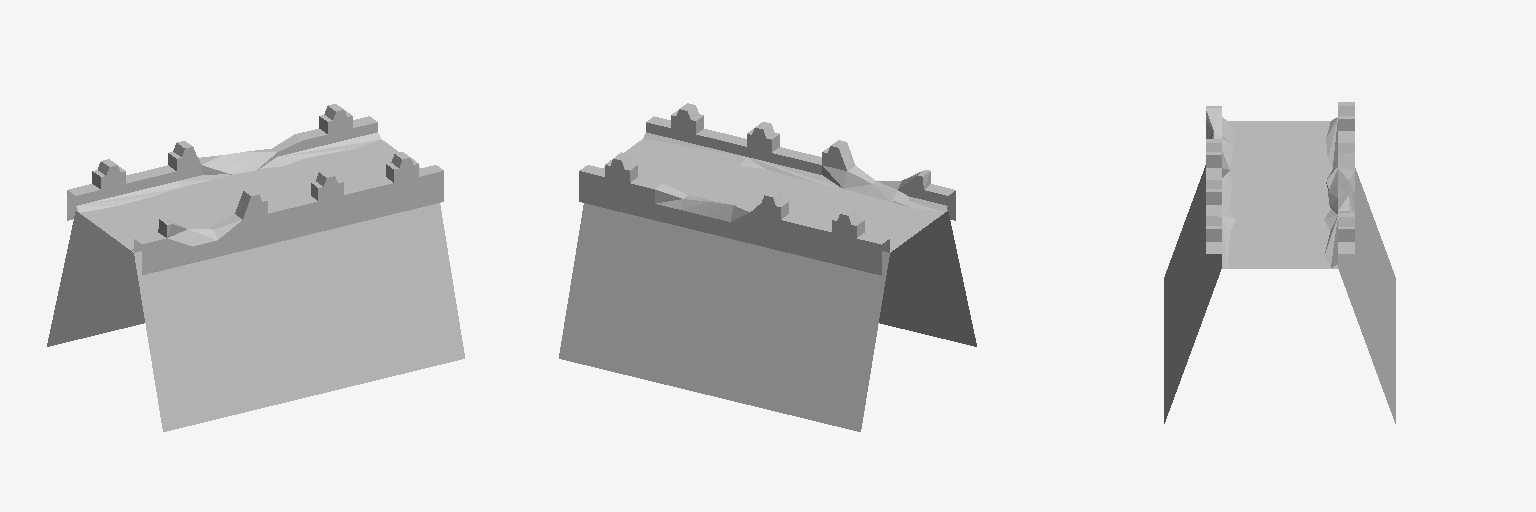
File: templeStraightHorz3_prefab.obj
3 renders of one model, left to right at view 1: azimuth 30°, elevation 25°; view 2: azimuth 150°, elevation 25°; view 3: azimuth 270°, elevation 25°, orthographic.
Visible parts, largest first — view 1: Object86-Pivot; view 2: Object86-Pivot; view 3: Object86-Pivot.
Part boxes in pixels (bbox=[...]): Object86-Pivot: bbox=[47, 104, 464, 431]; Object86-Pivot: bbox=[559, 103, 976, 431]; Object86-Pivot: bbox=[1164, 102, 1395, 423].
Size of the model in its own units: 60 by 36.77 by 40.